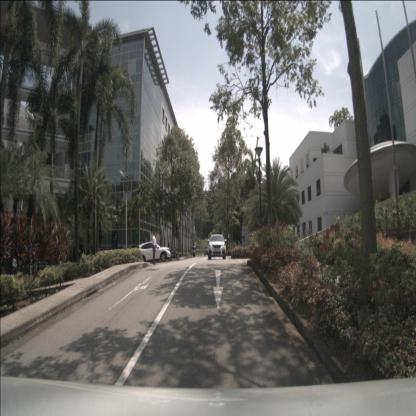human-pedestrian-adult: (152, 231, 157, 265)
vehicle-car: (131, 241, 171, 263), (208, 234, 226, 259), (204, 246, 210, 256)
vehicle-motorcycle: (168, 247, 179, 261), (191, 243, 197, 258)
